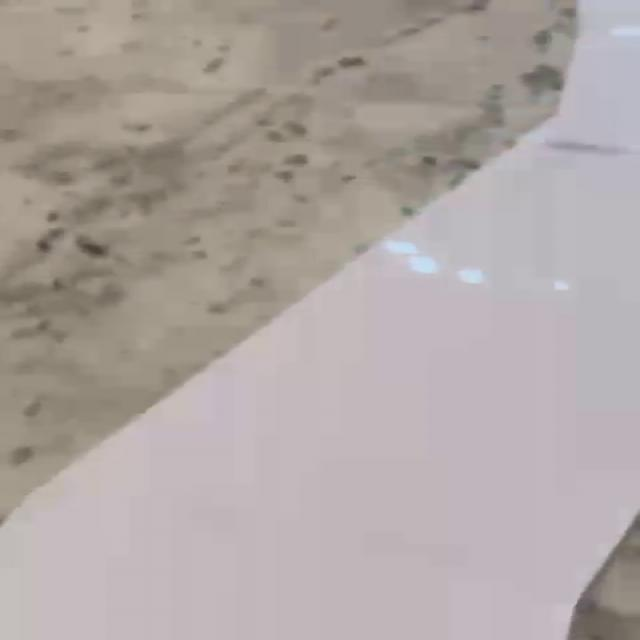road: (0, 0, 640, 640)
